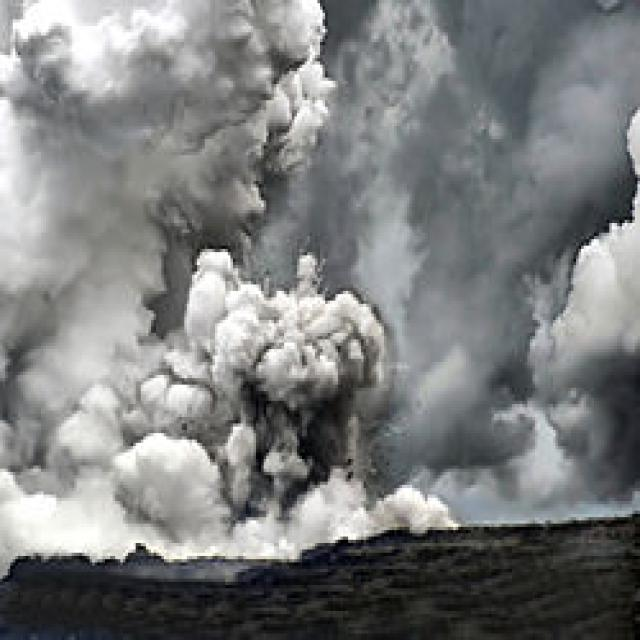explosion: (2, 1, 640, 582)
